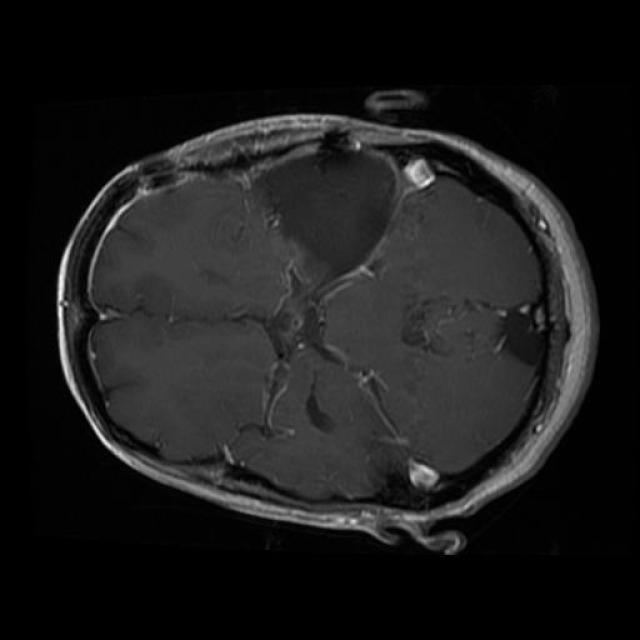Glioma: (250, 141, 399, 289)
